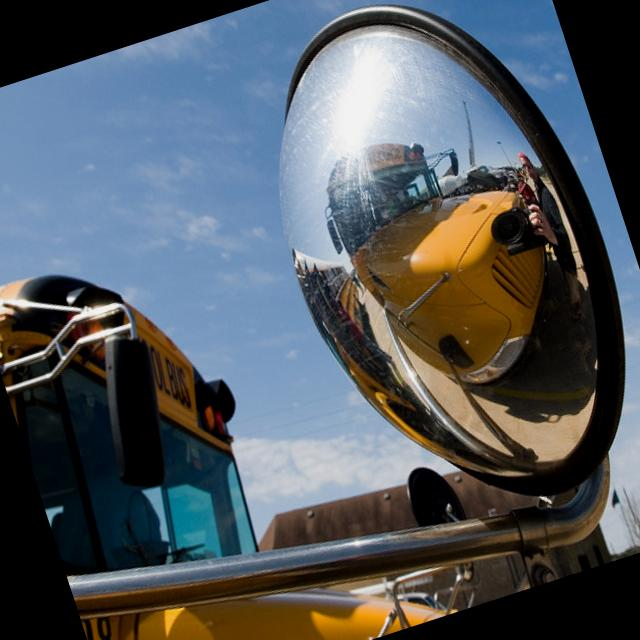Vehicle: (0, 0, 640, 640), (0, 170, 485, 640)
